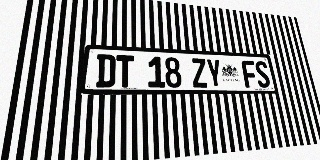1: (147, 56, 165, 88)
8: (164, 57, 182, 88)
D: (96, 54, 116, 87)
F: (241, 60, 258, 88)
S: (254, 61, 271, 88)
T: (116, 55, 134, 87)
Y: (206, 59, 223, 88)
Z: (191, 58, 208, 88)
